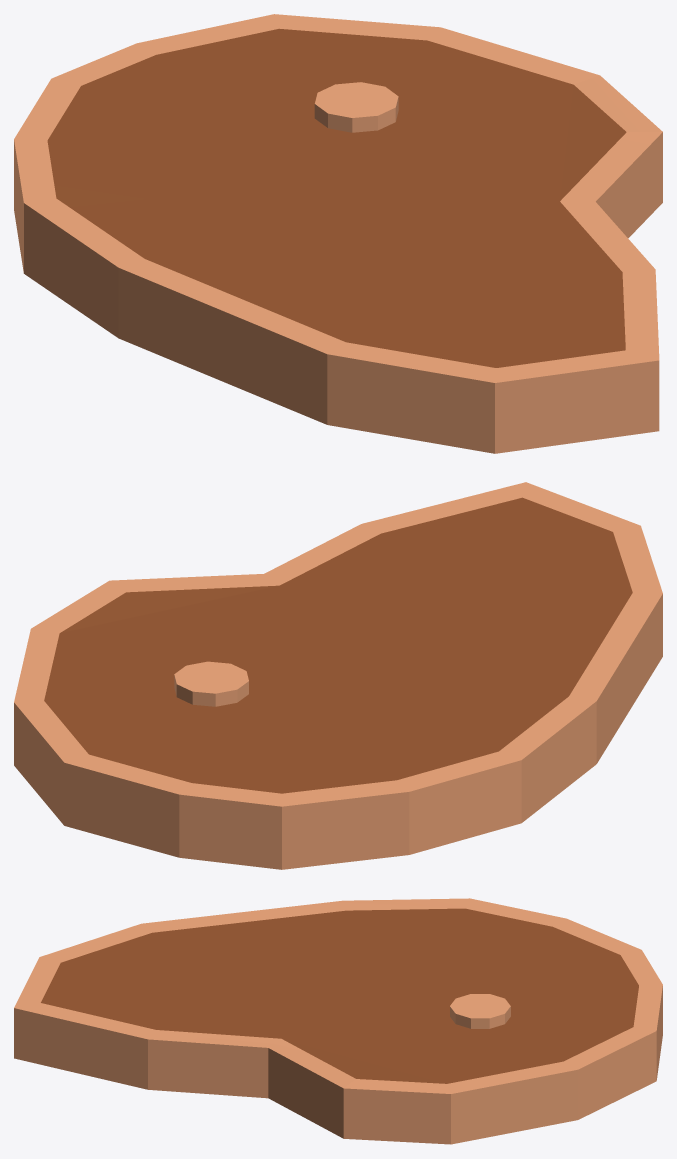
Rendered from Cooked Steak_2.fbx.
The picture shows the model from 3 angles, top to bottom: view 1: azimuth 30°, elevation 25°; view 2: azimuth 150°, elevation 25°; view 3: azimuth 270°, elevation 25°; orthographic projection. The views are drawn at different scales.
Visible parts, largest first — view 1: Cooked Steak_2; view 2: Cooked Steak_2; view 3: Cooked Steak_2.
Boxes of the visible parts, box(x1,y1,x2,y2) form: Cooked Steak_2: box(14, 14, 662, 453); Cooked Steak_2: box(14, 482, 662, 869); Cooked Steak_2: box(14, 898, 662, 1144).
Bounding box in the file's own units: 36.74 × 6.33 × 51.5.
